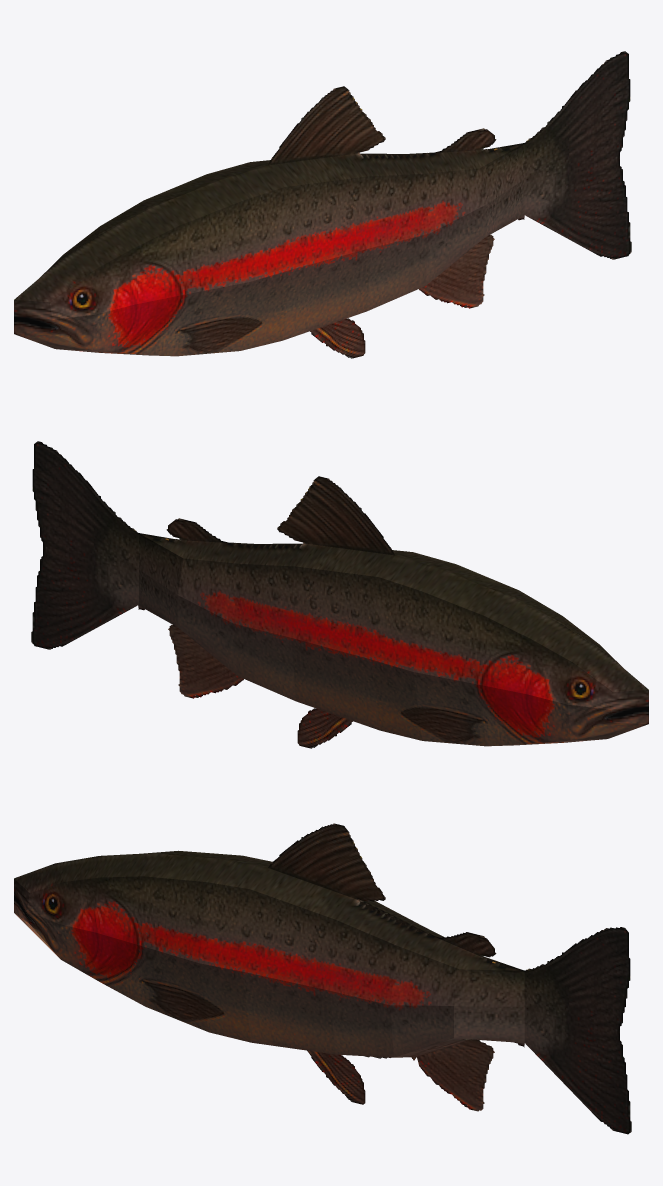
File: Rubystreak.fbx
3 views of the same model, one above another, from view 1: azimuth 30°, elevation 25°; view 2: azimuth 150°, elevation 25°; view 3: azimuth 330°, elevation 25° (orthographic).
Visible parts, largest first — view 1: Rainbow_Trout; view 2: Rainbow_Trout; view 3: Rainbow_Trout.
Part boxes in pixels (<box>): Rainbow_Trout: <box>14,51,631,358</box>; Rainbow_Trout: <box>31,441,648,748</box>; Rainbow_Trout: <box>14,823,631,1134</box>.
Size of the model in its own units: 118 by 56.94 by 16.22.
1 material, 1 textured.
